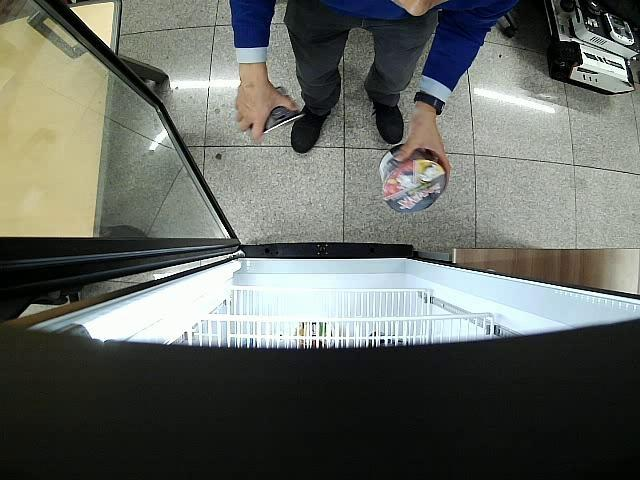07_buldak_L: (378, 144, 446, 212), (248, 85, 306, 134)
